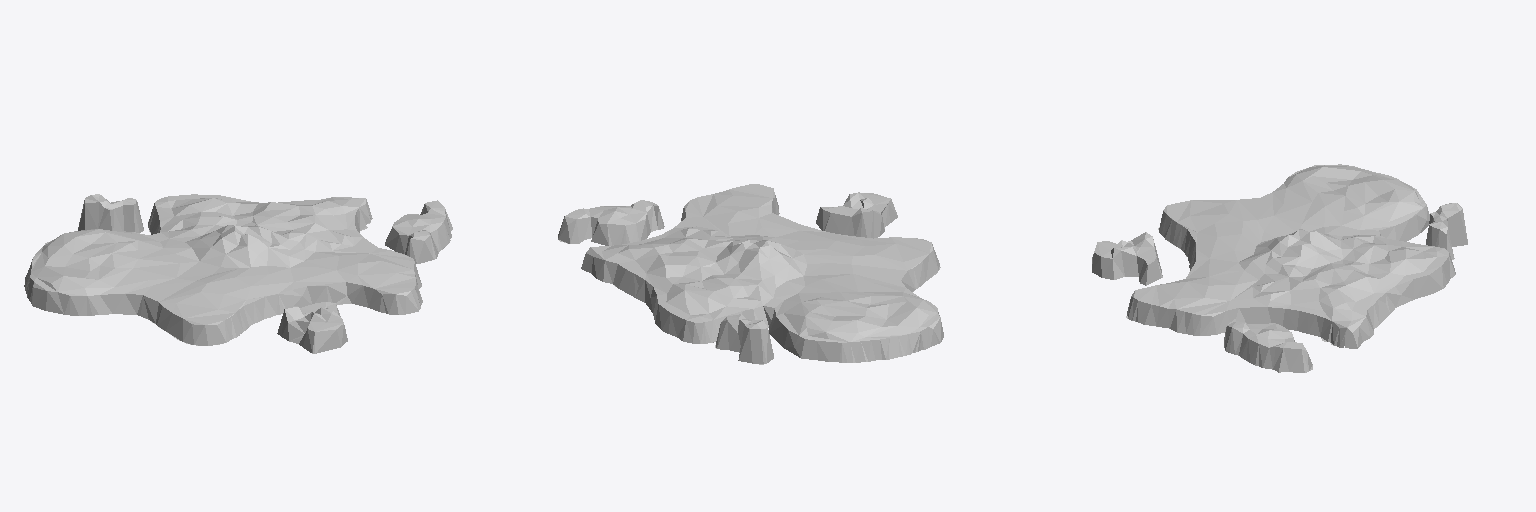
The model's file is GrowthIslandDecimated.obj.
3 views of the same model, side by side, from view 1: azimuth 30°, elevation 25°; view 2: azimuth 150°, elevation 25°; view 3: azimuth 270°, elevation 25° (orthographic).
Visible parts, largest first — view 1: Terrain; view 2: Terrain; view 3: Terrain.
Part boxes in pixels (x1,y1,x2,y2): Terrain: (24, 194, 452, 353); Terrain: (558, 184, 943, 364); Terrain: (1092, 164, 1467, 372).
Size of the model in its own units: 751 by 75.54 by 618.